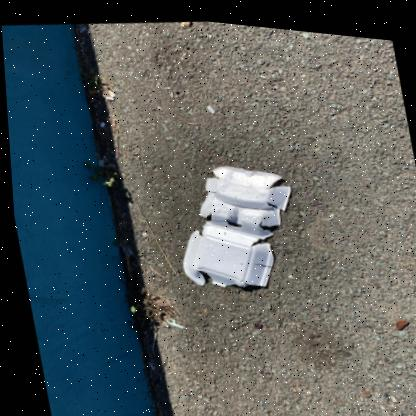Plastic: (162, 315, 179, 323), (147, 328, 152, 351), (205, 100, 213, 108)
Waste: (179, 160, 288, 282), (88, 86, 99, 91), (120, 245, 129, 250), (96, 156, 101, 164)
